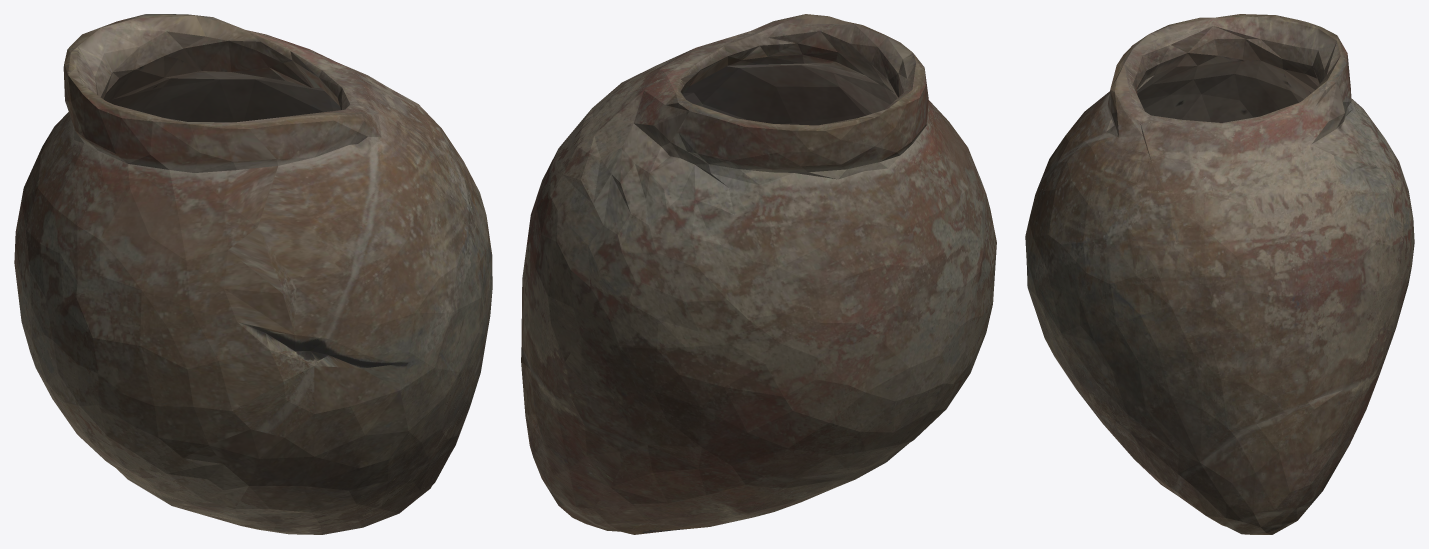
3 views of the same model, side by side, from view 1: azimuth 30°, elevation 25°; view 2: azimuth 150°, elevation 25°; view 3: azimuth 270°, elevation 25° (orthographic). The views are drawn at different scales.
Visible parts, largest first — view 1: 253; view 2: 253; view 3: 253.
Boxes of the visible parts, x1,y1,x2,y2 form: 253: [14, 14, 492, 534]; 253: [521, 14, 996, 534]; 253: [1025, 14, 1414, 534].
Bounding box in the file's own units: 0.1337 × 0.1509 × 0.1313.
1 material, 1 textured.
